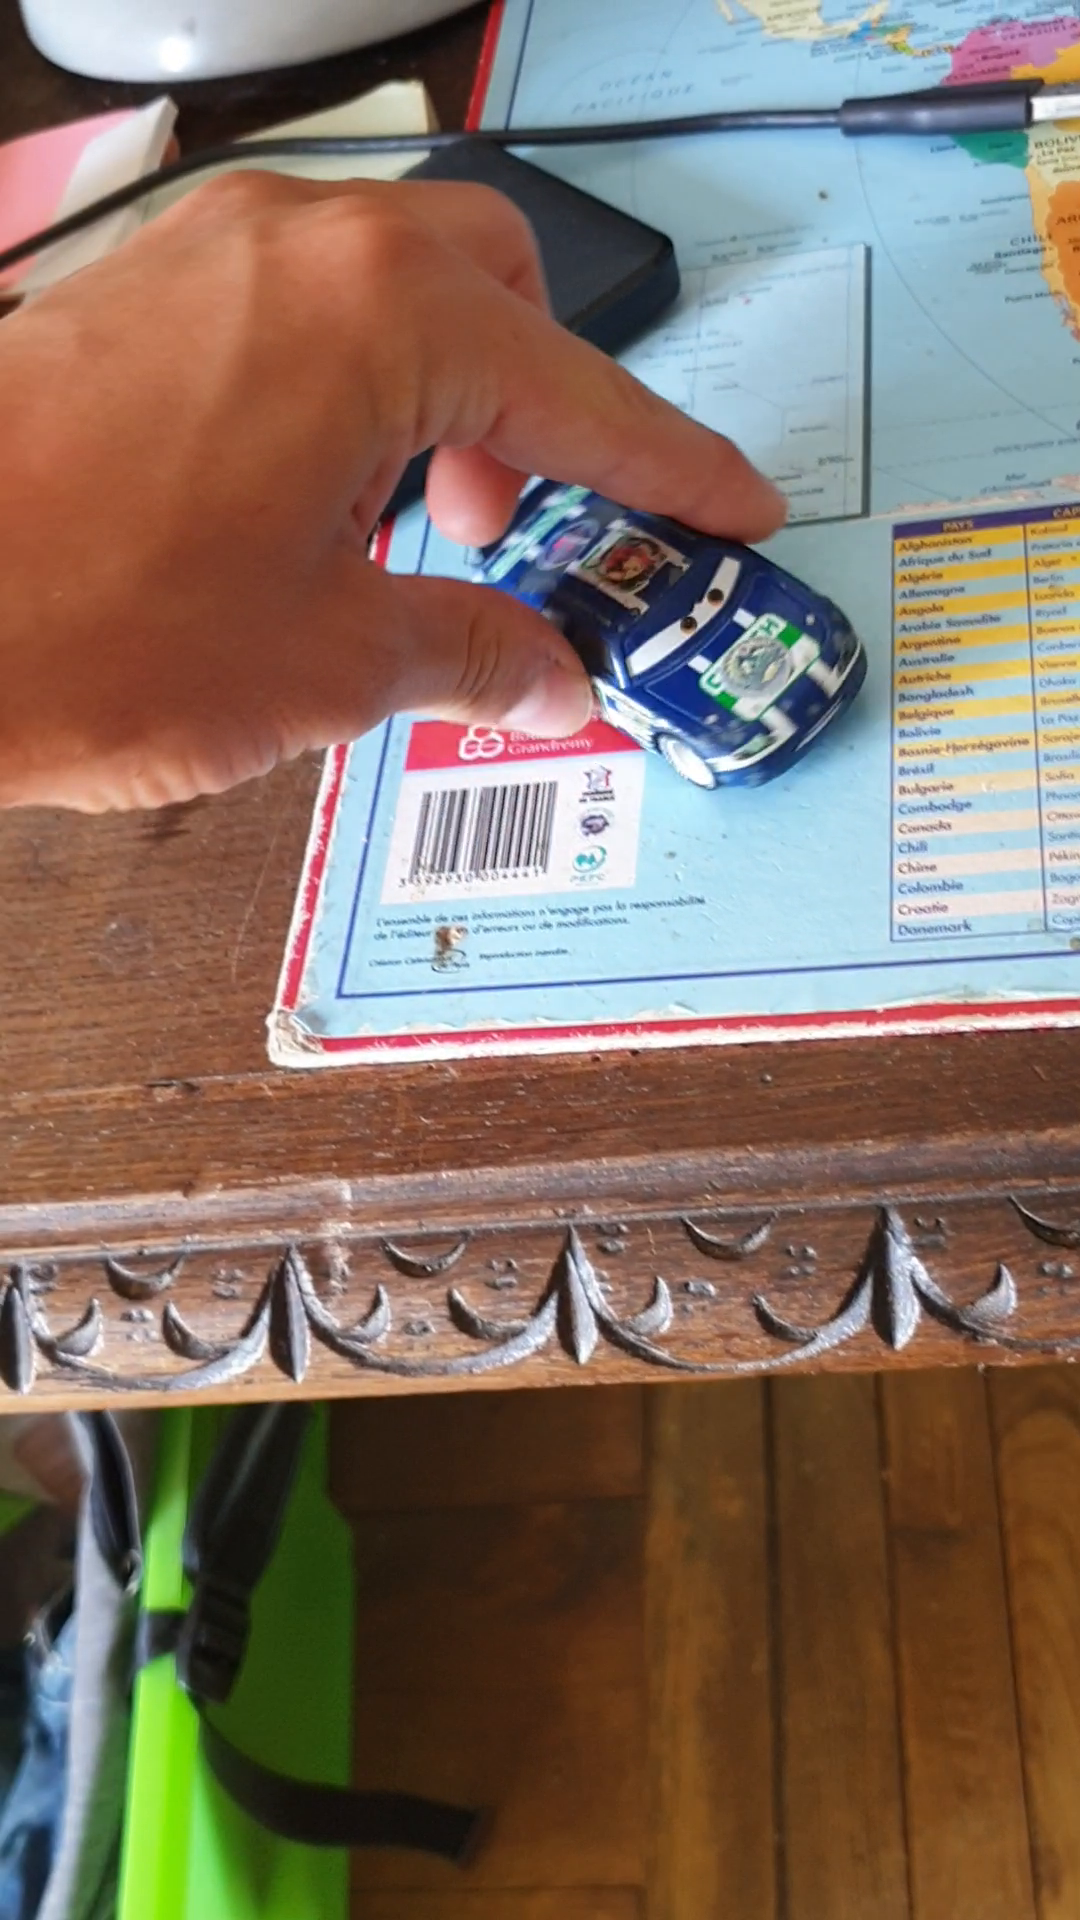cars: (463, 477, 869, 796)
